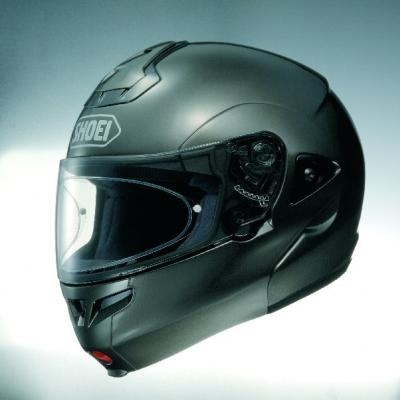helmet: (64, 43, 352, 339)
